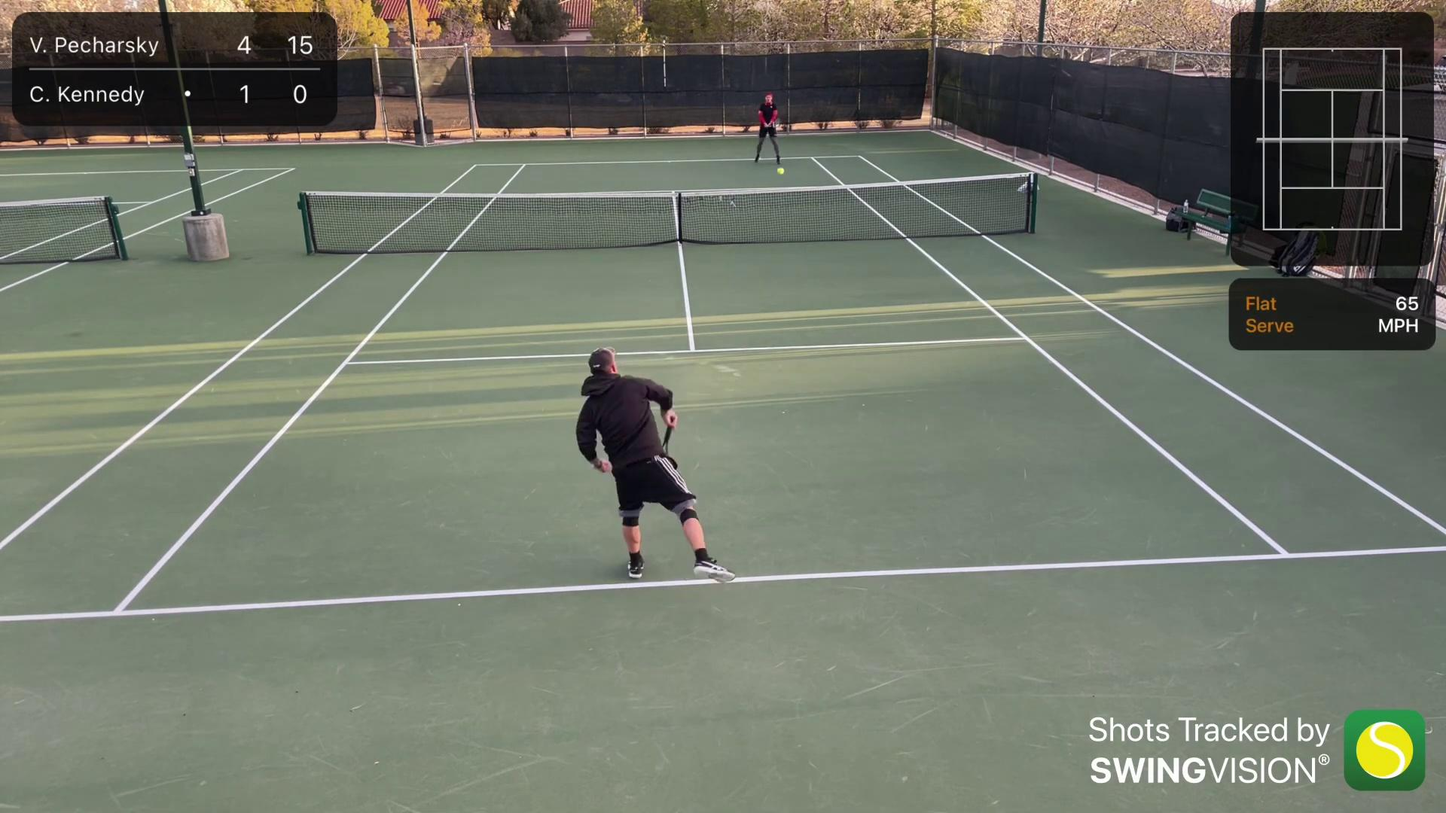ball: (776, 167, 788, 174)
